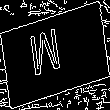M_S: (37, 25, 73, 85)
